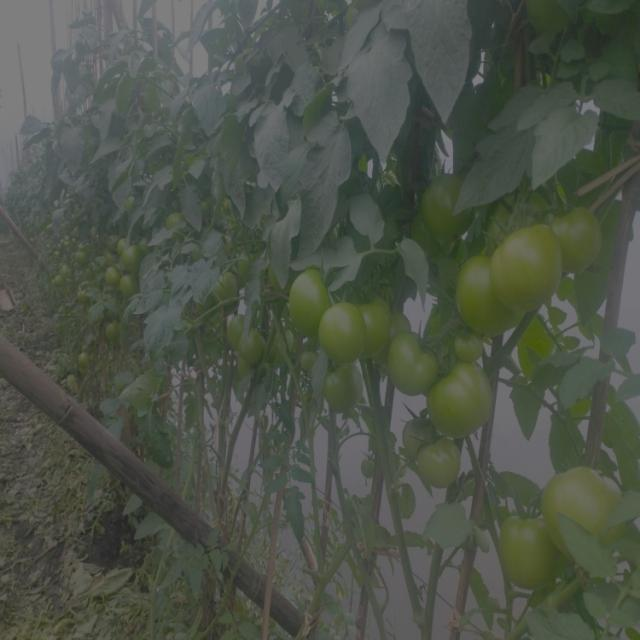tomato: (544, 458, 632, 555), (493, 504, 561, 592), (454, 250, 520, 338), (493, 226, 564, 307), (552, 197, 611, 283), (431, 366, 499, 435), (422, 170, 479, 236), (388, 329, 440, 400), (314, 301, 364, 362), (285, 266, 325, 327), (419, 440, 463, 491), (364, 291, 392, 356), (325, 365, 365, 407), (402, 416, 436, 457), (452, 334, 486, 362), (271, 328, 299, 362), (215, 272, 244, 303), (241, 332, 265, 368), (228, 312, 249, 352), (165, 204, 189, 237), (102, 318, 122, 347), (75, 346, 93, 377), (117, 275, 138, 301), (73, 248, 95, 272), (123, 246, 143, 271), (298, 347, 318, 370), (105, 264, 121, 289)
